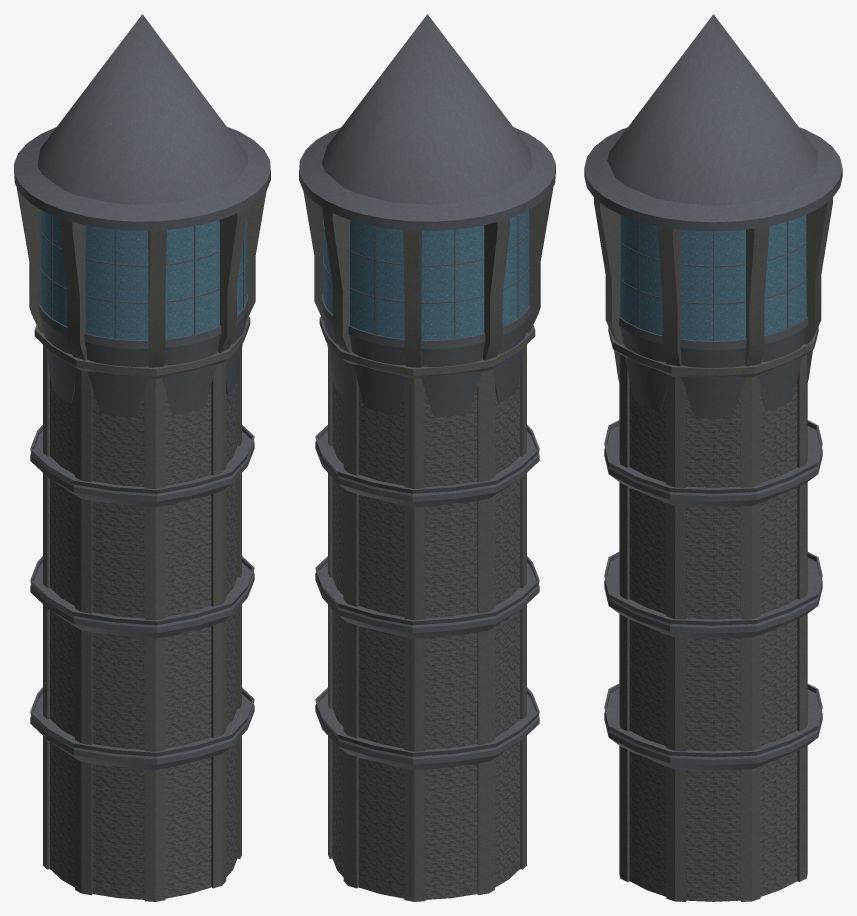
File: HightTower1.fbx
3 views of the same model, side by side, from view 1: azimuth 30°, elevation 25°; view 2: azimuth 150°, elevation 25°; view 3: azimuth 270°, elevation 25° (orthographic).
Visible parts, largest first — view 1: HightTower1; view 2: HightTower1; view 3: HightTower1.
Boxes of the visible parts, box(x1,y1,x2,y2) form: HightTower1: box(14, 14, 270, 901); HightTower1: box(299, 14, 555, 901); HightTower1: box(584, 14, 842, 901).
Bounding box in the file's own units: 4331 × 15701 × 4331.
